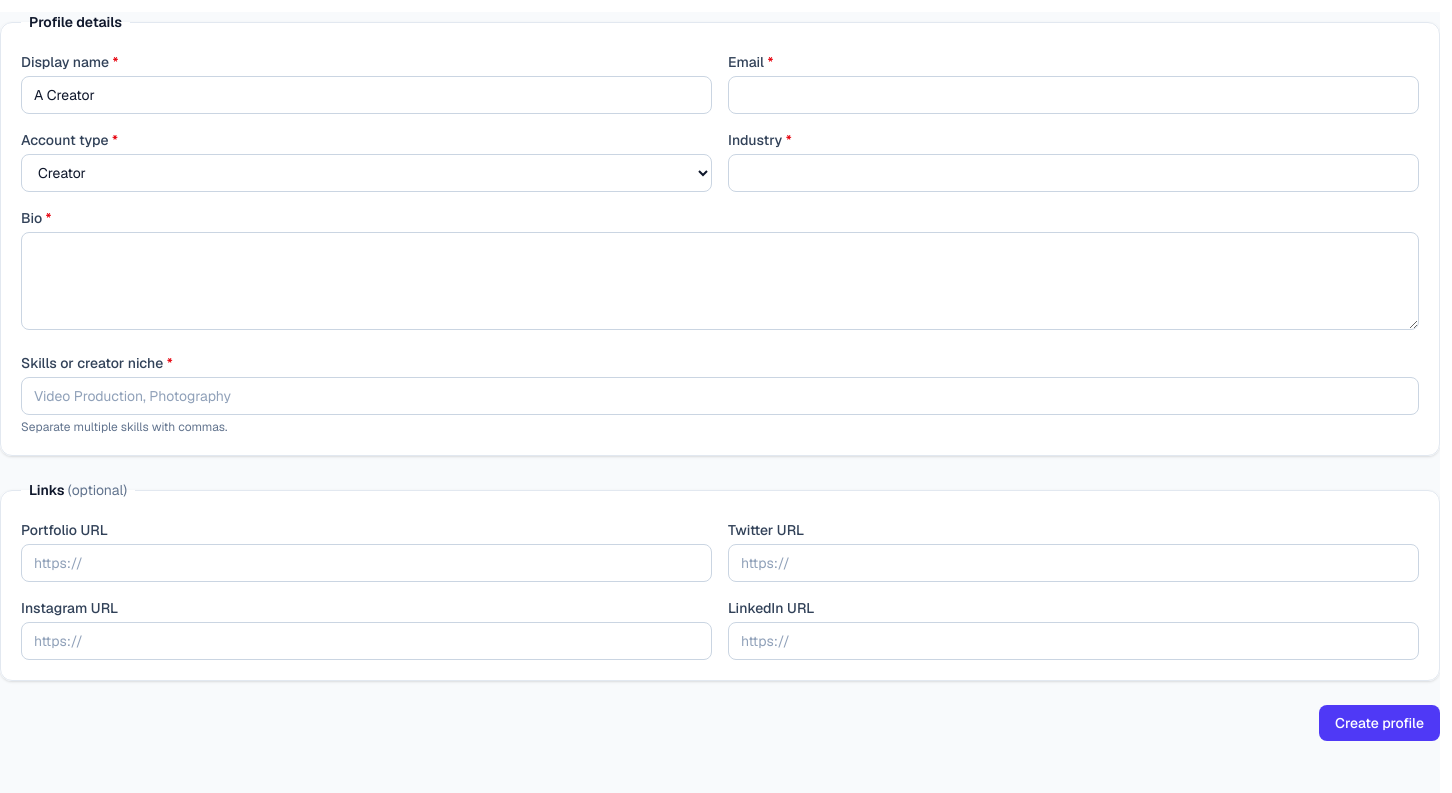
ProfileForm validation › shows a field level error when the portfolio URL is not a valid URL
Step 1. Type "not-a-url" into the field labelled "Portfolio URL" → [366, 563], box [21,544,712,582]
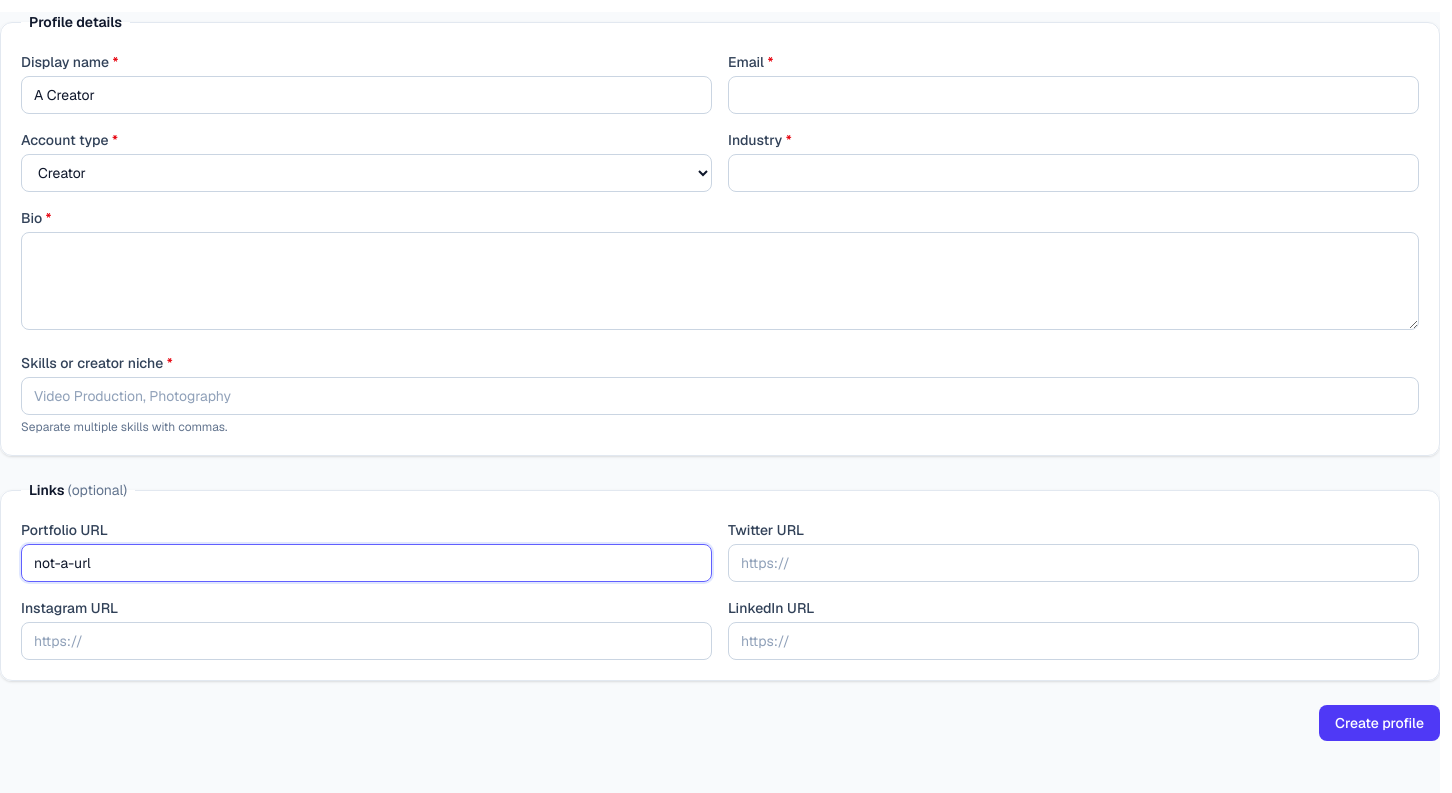
Step 2. Click the button "Create profile" → [1380, 723], box [1319,705,1440,741]
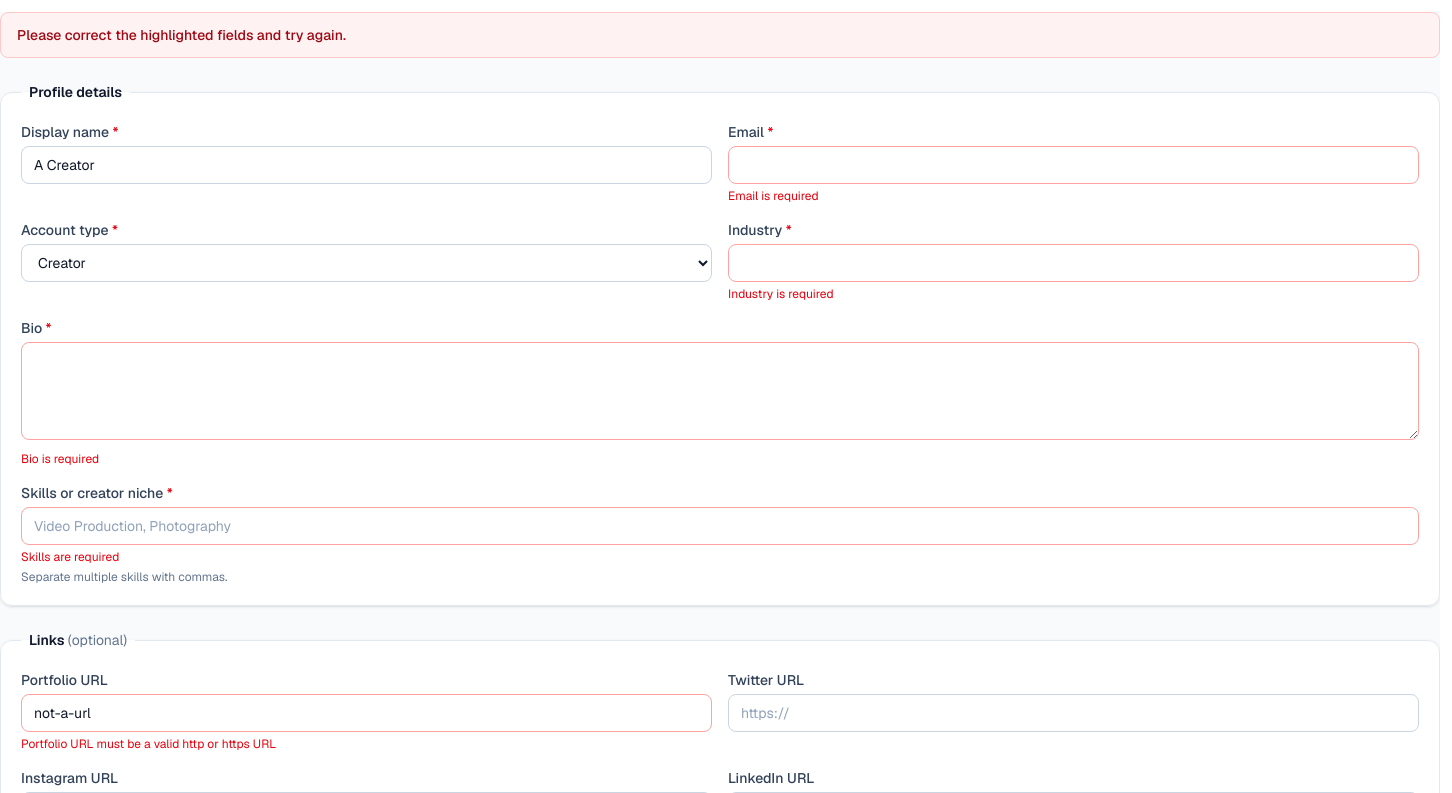
Now the text "Portfolio URL must be a valid http or https URL" is shown, box [21,736,276,752]
